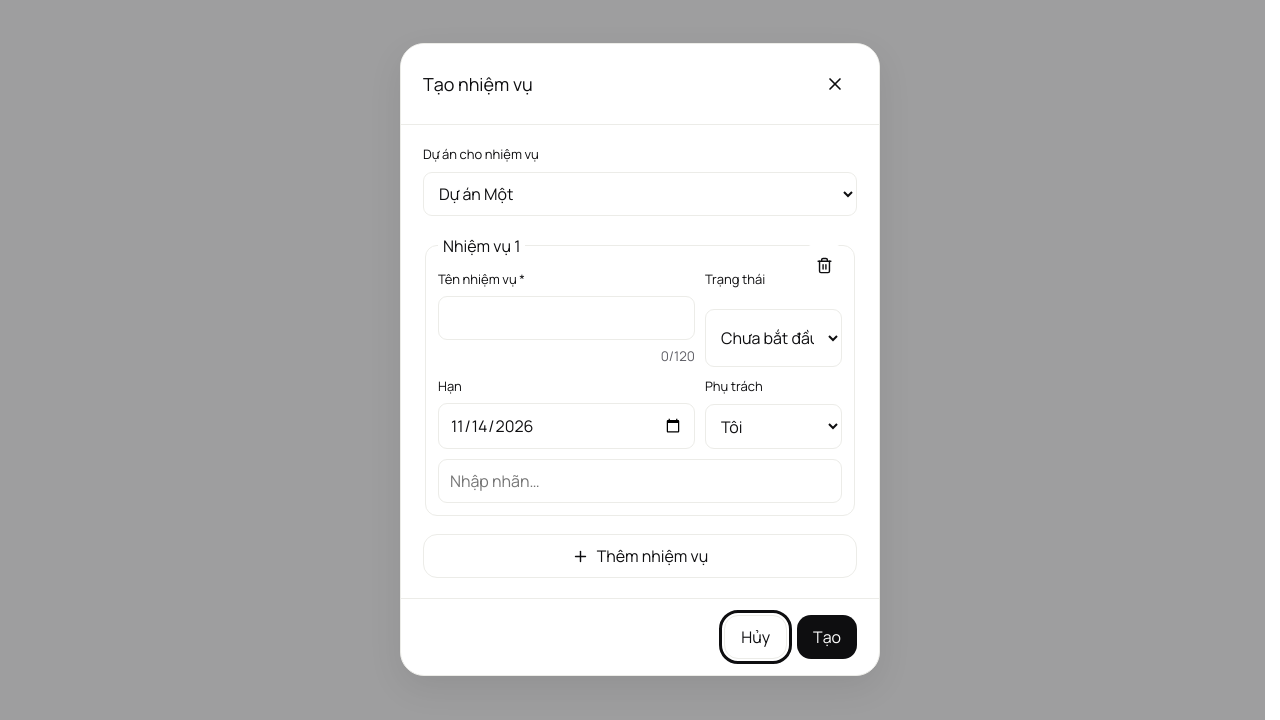
Test: Tạo dự án + nhiệm vụ › chặn tiêu đề nhiệm vụ trống
Click the button "Tạo". click: click(827, 638)
box: x1=797 y1=616 x2=857 y2=660
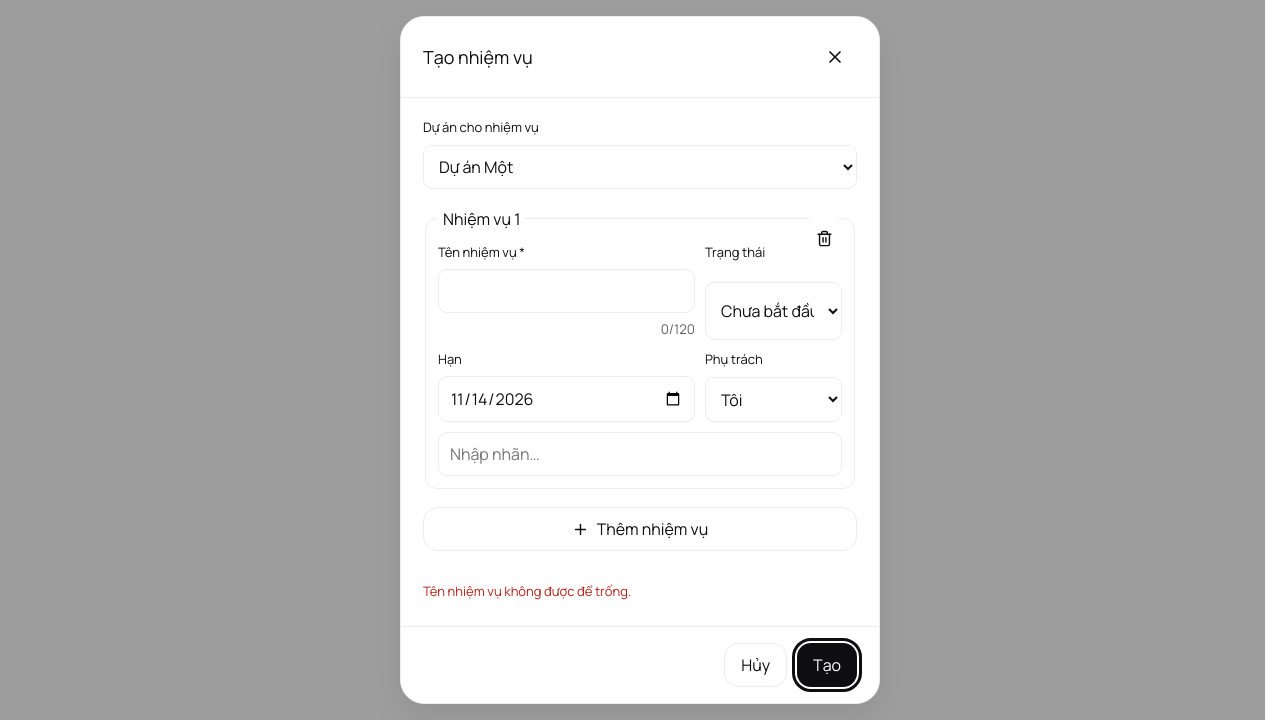
Check: the message shows "không được để trống", box x1=423 y1=582 x2=631 y2=600
